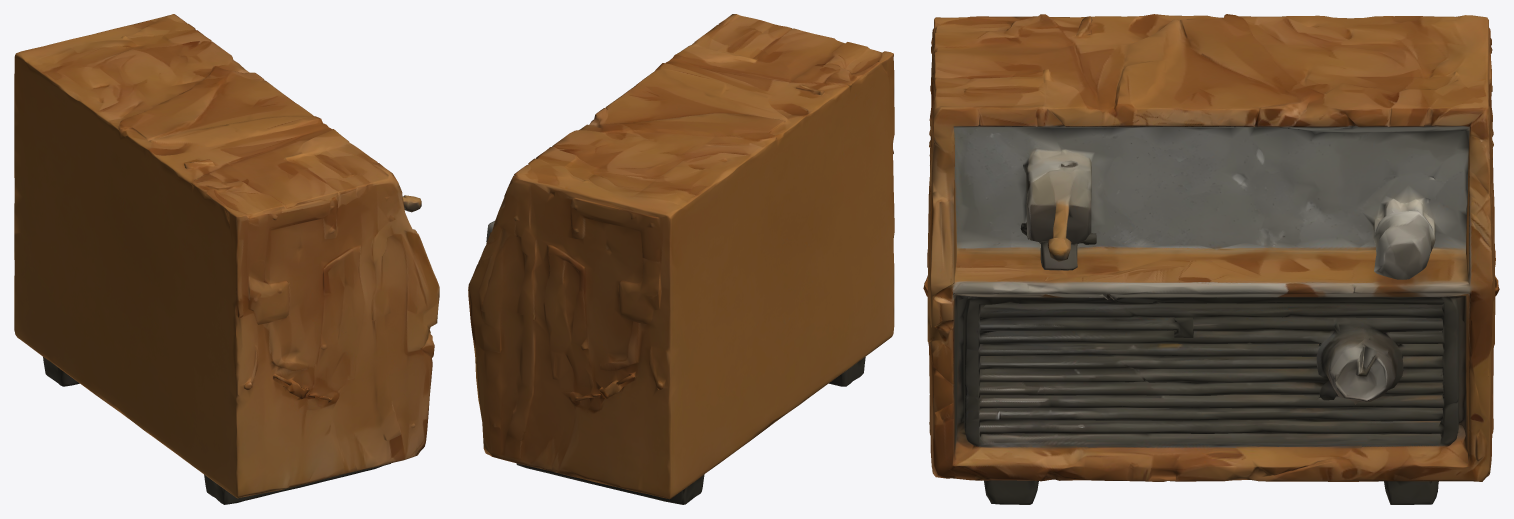
File: radio.glb
The picture shows the model from 3 angles, left to right: view 1: azimuth 30°, elevation 25°; view 2: azimuth 150°, elevation 25°; view 3: azimuth 270°, elevation 25°; orthographic projection. The views are drawn at different scales.
Parts seen in each view (by area): view 1: tripo_node_5f3bf76f-0c94-4267-9f91-abc8d8b316ed; view 2: tripo_node_5f3bf76f-0c94-4267-9f91-abc8d8b316ed; view 3: tripo_node_5f3bf76f-0c94-4267-9f91-abc8d8b316ed.
Part boxes in pixels (x1=…): tripo_node_5f3bf76f-0c94-4267-9f91-abc8d8b316ed: x1=14, y1=14, x2=439, y2=504; tripo_node_5f3bf76f-0c94-4267-9f91-abc8d8b316ed: x1=468, y1=14, x2=894, y2=504; tripo_node_5f3bf76f-0c94-4267-9f91-abc8d8b316ed: x1=923, y1=14, x2=1499, y2=504.
Bounding box in the file's own units: 0.5848 × 0.7458 × 1.
Materials: 1 (1 with a texture image).
